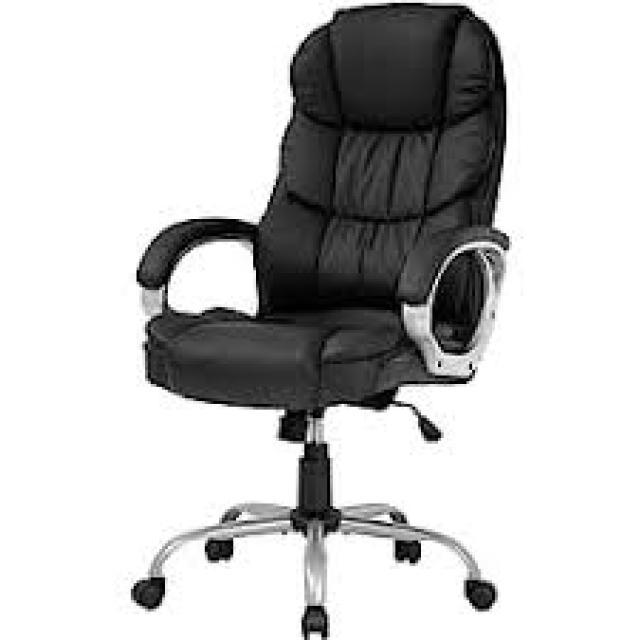chair: (59, 0, 632, 640)
